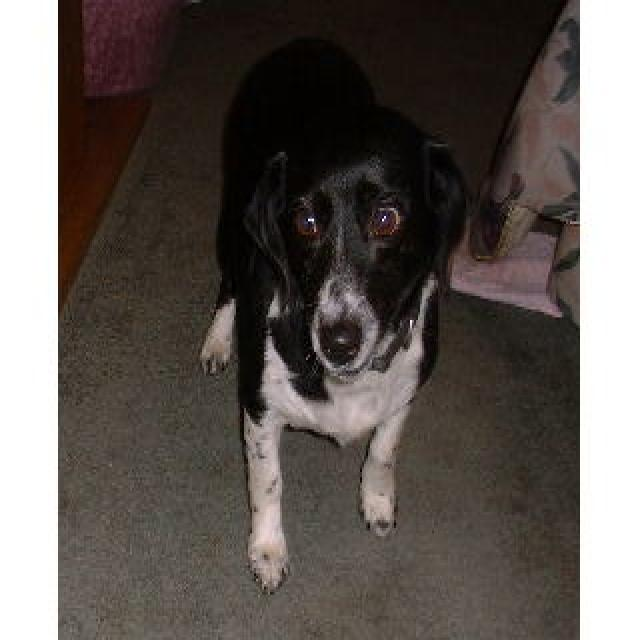Dogs: (196, 32, 470, 595)
